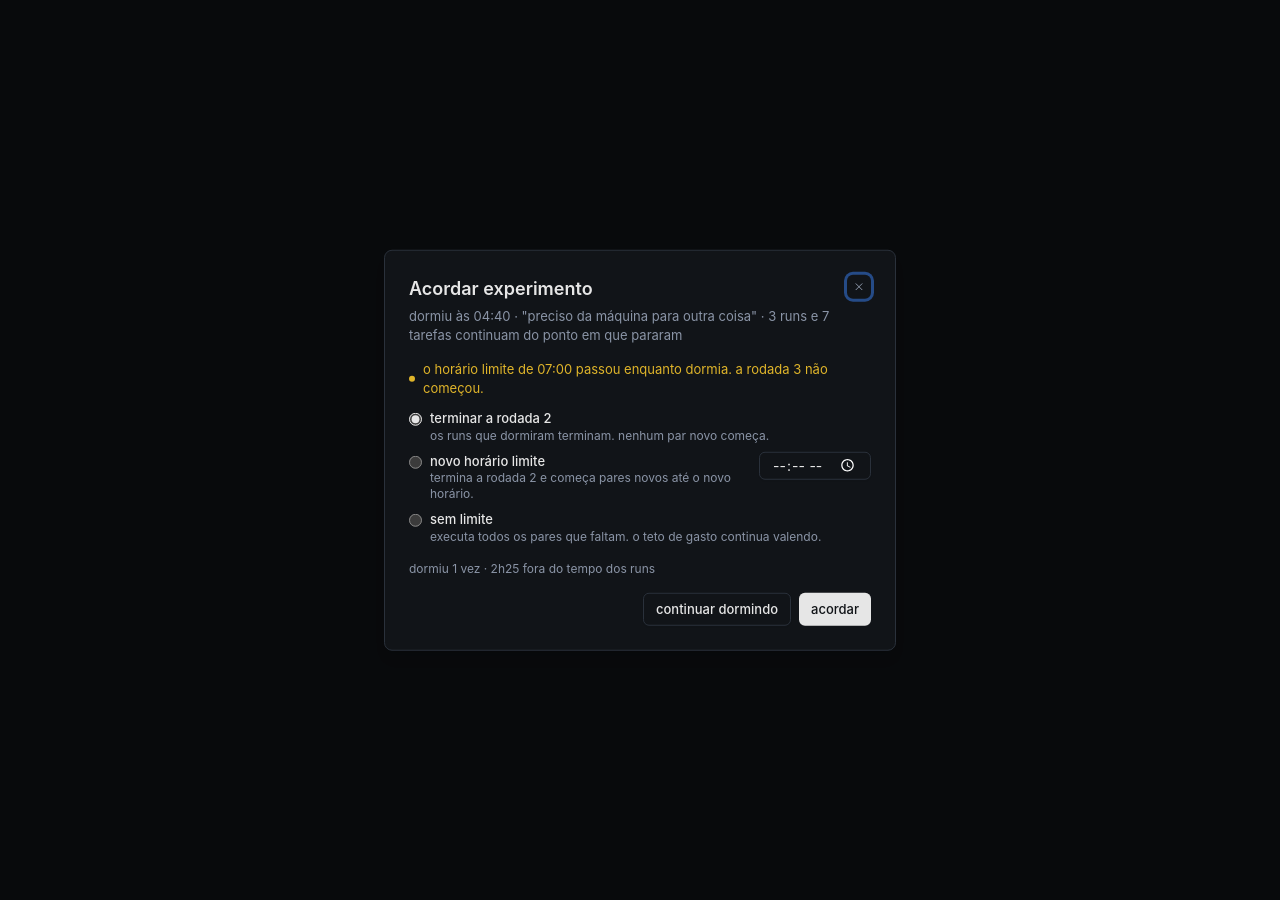
it: acordar is disabled on novo horário limite while its time is empty; picking the option focuses the field (#468)
Click the radio button labelled "novo horário limite" at coordinates (416, 462), box [409,456,422,469]
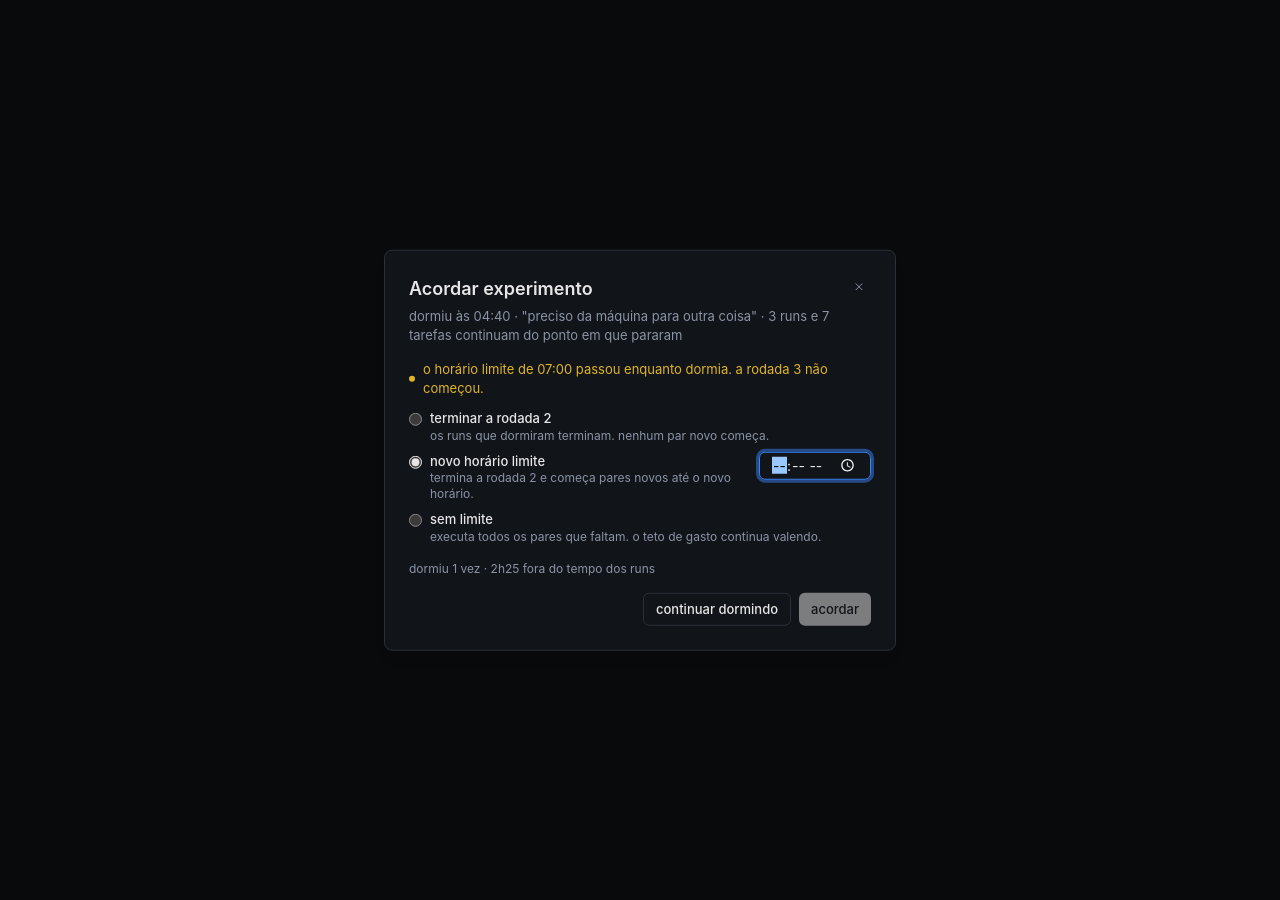
Expected: the button "acordar" is disabled, [799,593,871,625]
Type "13:00" into the time field named "novo horário" at coordinates (815, 466), box [759,452,871,480]
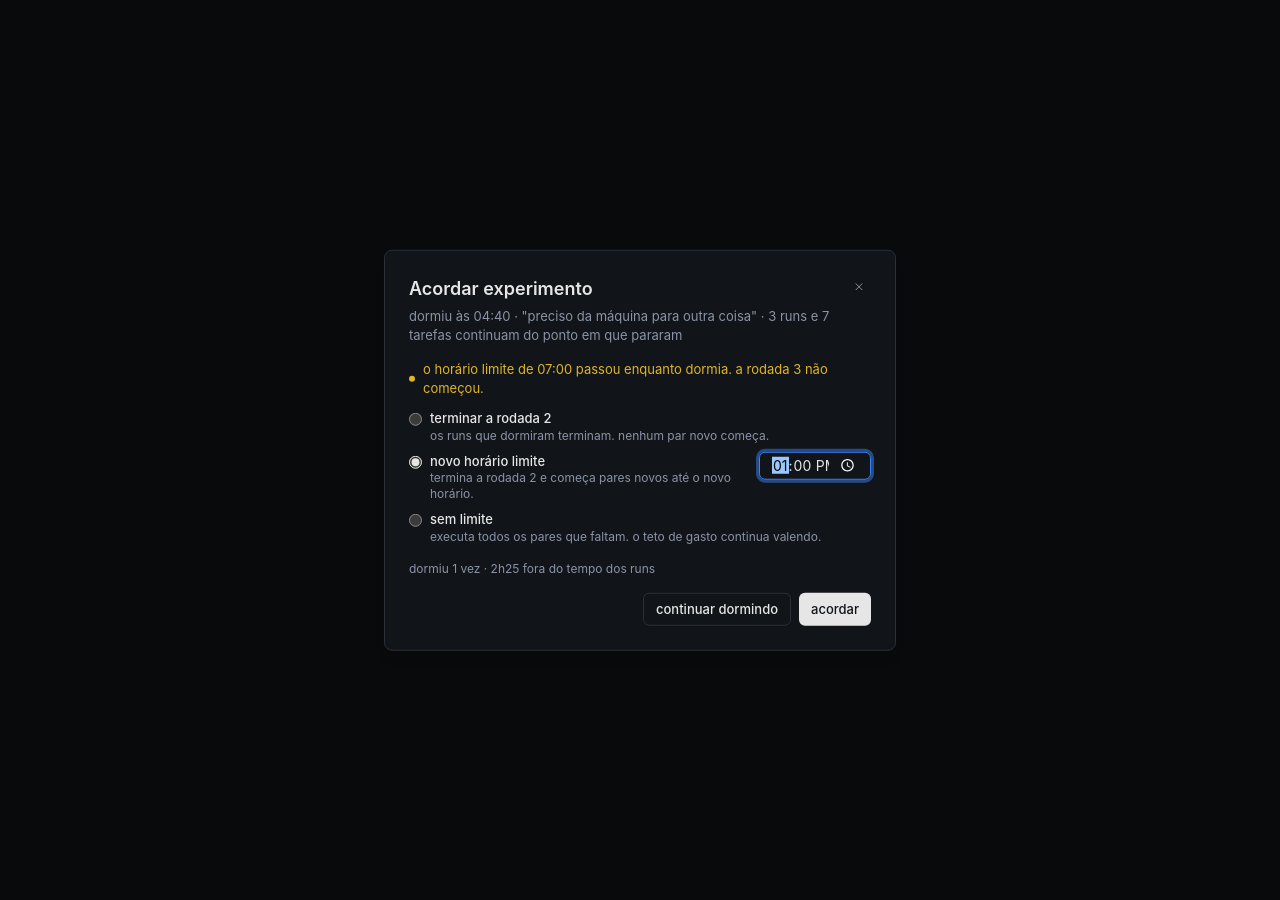
Expected: the button "acordar" is enabled, [799,593,871,625]
